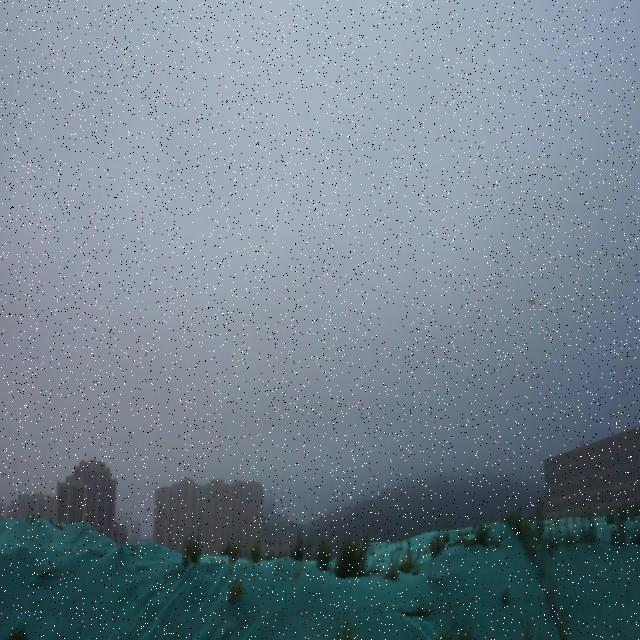UAV: (527, 298, 536, 305)
